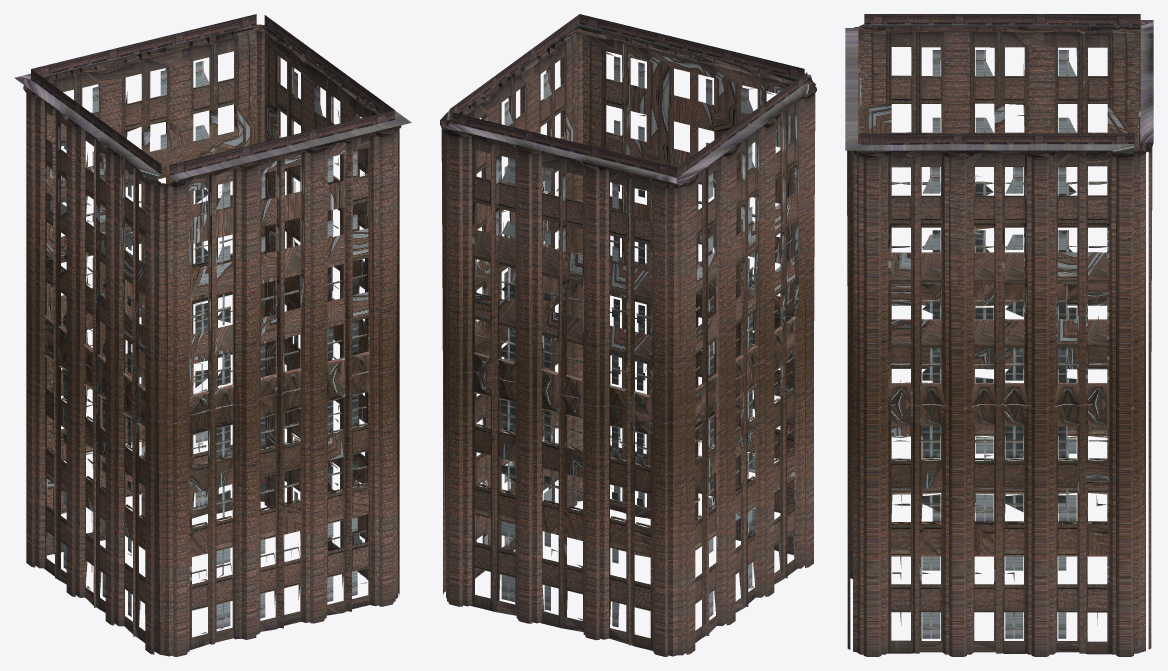
3 renders of one model, left to right at view 1: azimuth 30°, elevation 25°; view 2: azimuth 150°, elevation 25°; view 3: azimuth 270°, elevation 25°, orthographic. The views are drawn at different scales.
Parts seen in each view (by area): view 1: TexturesCom_BuildingsTallHouse0032_M.001_Building_7_0, TexturesCom_BuildingsTallHouse0032_M.001_Building_7 Glass_0; view 2: TexturesCom_BuildingsTallHouse0032_M.001_Building_7_0, TexturesCom_BuildingsTallHouse0032_M.001_Building_7 Glass_0; view 3: TexturesCom_BuildingsTallHouse0032_M.001_Building_7_0, TexturesCom_BuildingsTallHouse0032_M.001_Building_7 Glass_0.
Boxes of the visible parts, x1=… form: TexturesCom_BuildingsTallHouse0032_M.001_Building_7_0: x1=14, y1=14, x2=411, y2=656; TexturesCom_BuildingsTallHouse0032_M.001_Building_7 Glass_0: x1=63, y1=61, x2=362, y2=628; TexturesCom_BuildingsTallHouse0032_M.001_Building_7_0: x1=440, y1=14, x2=816, y2=656; TexturesCom_BuildingsTallHouse0032_M.001_Building_7 Glass_0: x1=484, y1=56, x2=755, y2=627; TexturesCom_BuildingsTallHouse0032_M.001_Building_7_0: x1=845, y1=14, x2=1153, y2=656; TexturesCom_BuildingsTallHouse0032_M.001_Building_7 Glass_0: x1=922, y1=50, x2=1076, y2=638.
Size of the model in its own units: 21.98 by 40.85 by 21.94.
Materials: 2 (2 with a texture image).
